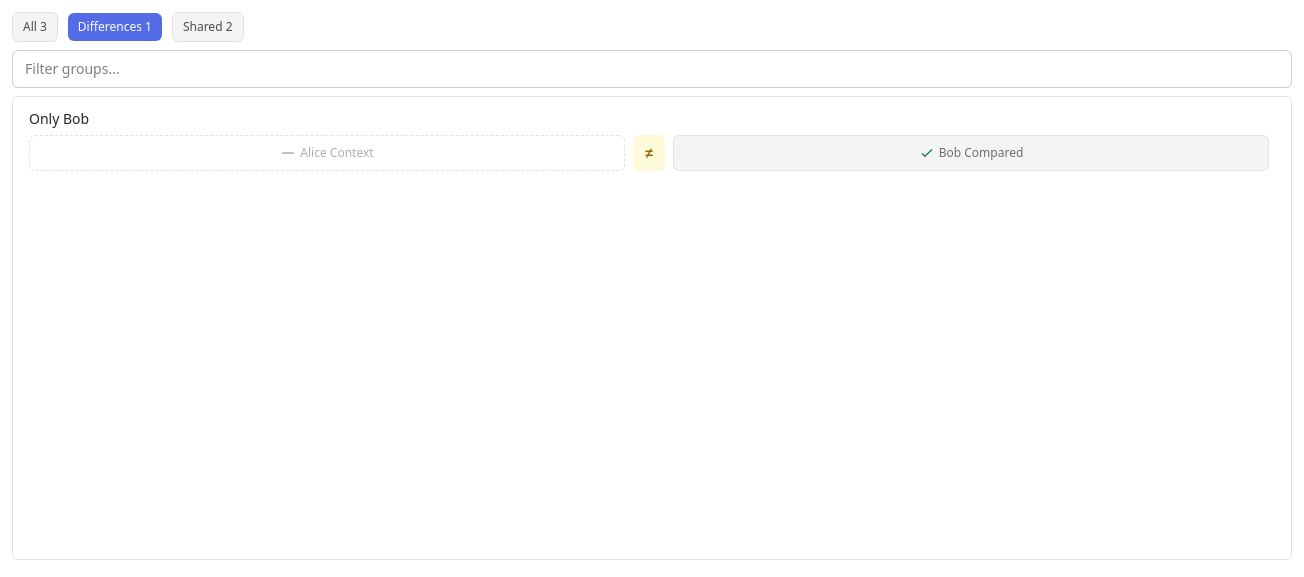
filtering and search › filters by name within the current selection
This screenshot has width=1304, height=577.
Click the button "All 3".
click(35, 27)  # box [12, 12, 58, 42]
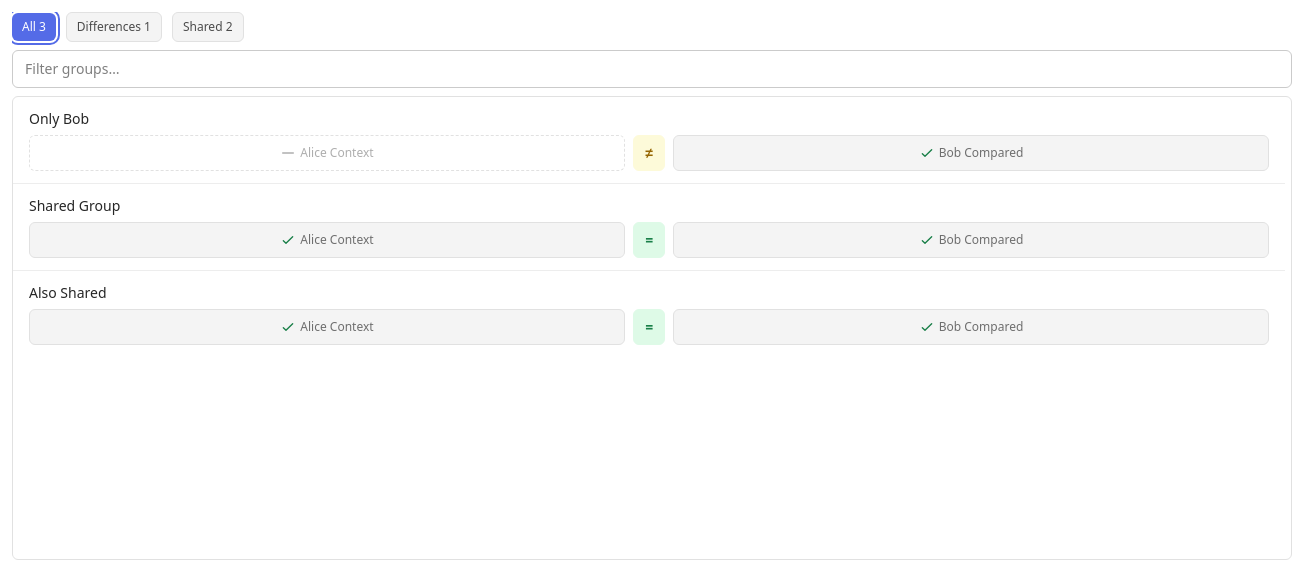
Type "shared" into the search field named "Filter groups by name".
click(652, 69); type("shared")  # box [12, 50, 1292, 88]
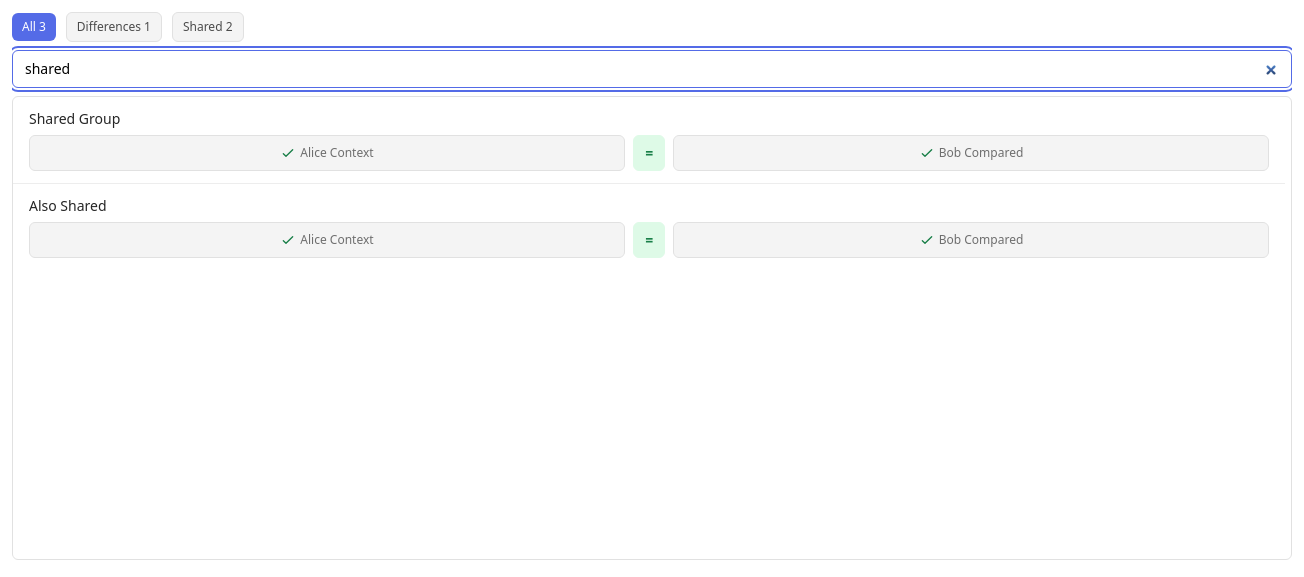
Result: the text titled "Shared Group" is shown at [29, 109, 120, 128]
Result: the text titled "Also Shared" is shown at [29, 196, 107, 215]
Result: the text titled "Only Bob" is gone
